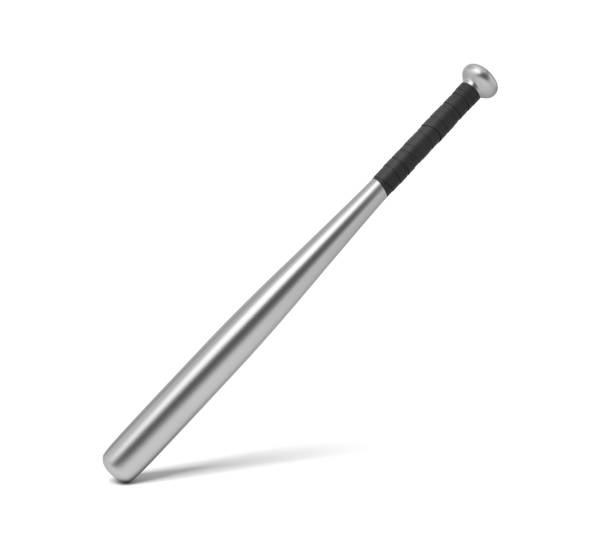bita: (99, 59, 499, 482)
